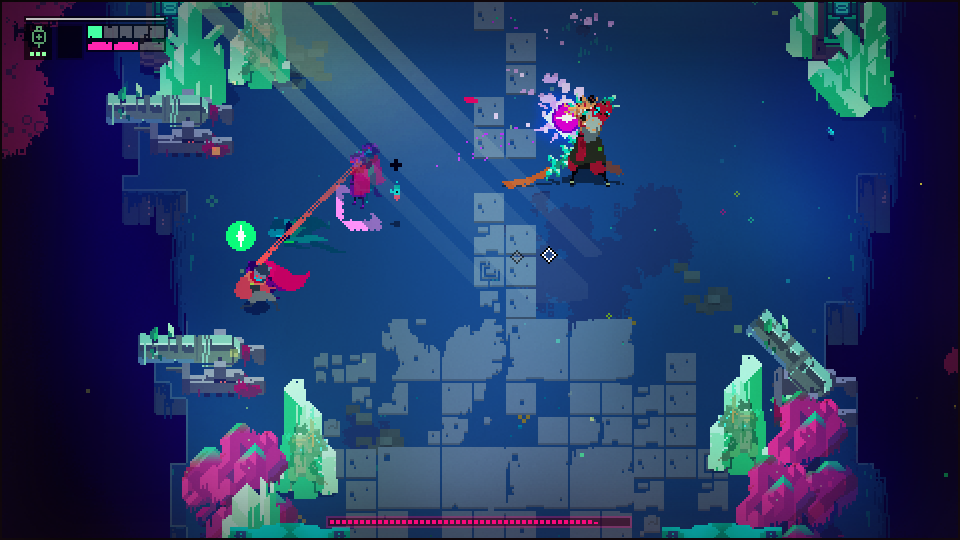hanged_man: (546, 90, 623, 188)
hanged_shot: (550, 101, 585, 135), (224, 220, 256, 252)
player: (230, 264, 279, 316)
